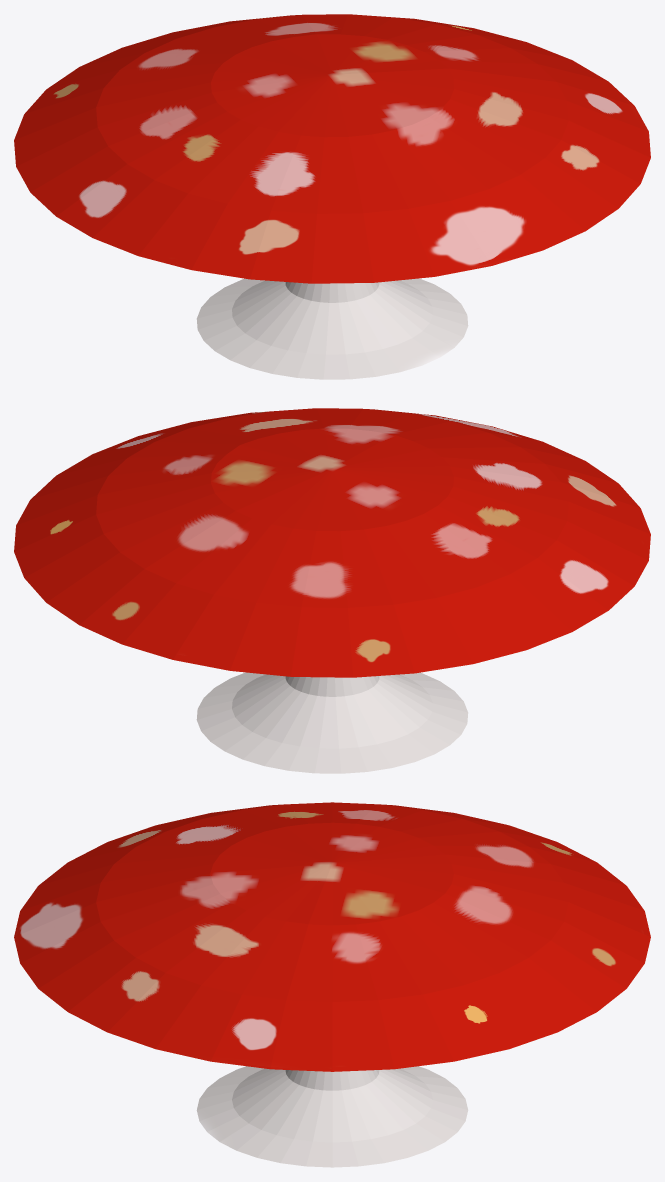
File: champi1.fbx
3 views of the same model, one above another, from view 1: azimuth 30°, elevation 25°; view 2: azimuth 150°, elevation 25°; view 3: azimuth 270°, elevation 25° (orthographic).
Visible parts, largest first — view 1: Cylinder; view 2: Cylinder; view 3: Cylinder.
Part boxes in pixels (left/top/right/bottom): Cylinder: left=14, top=14, right=650, bottom=379; Cylinder: left=14, top=408, right=650, bottom=773; Cylinder: left=14, top=802, right=650, bottom=1167.
Bounding box in the file's own units: 7.04 × 3.01 × 7.04.
1 material, 1 textured.
